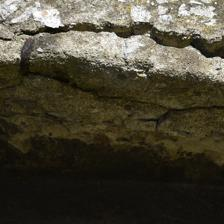Crack: (0, 12, 167, 94), (82, 96, 142, 127), (80, 25, 108, 62)
